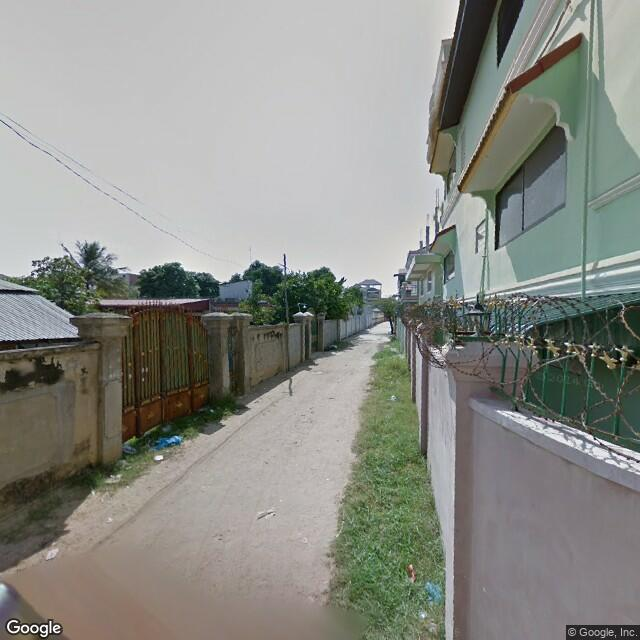litter: (147, 431, 190, 452), (420, 579, 449, 609), (400, 558, 419, 590), (259, 505, 275, 529), (42, 544, 59, 564), (388, 385, 401, 407)
